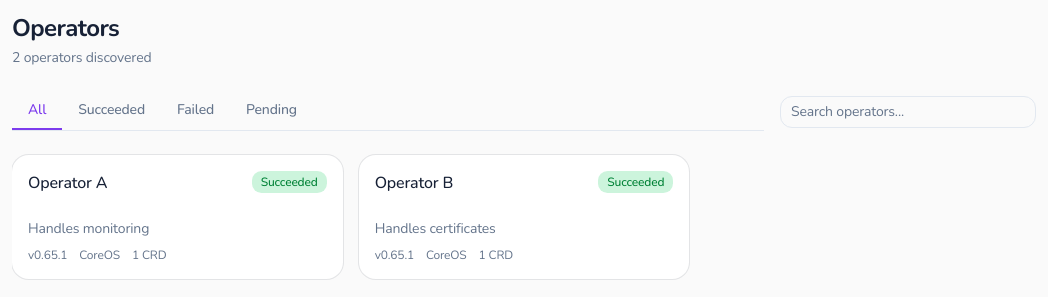
Test: OperatorsClient › filters operators by description when searching
Expected: the text "Operator A" is shown, [28,171,107,195]
Type "certificates" into the field with placeholder "Search operators...". click: (908, 112)
box: [780,96,1036,128]
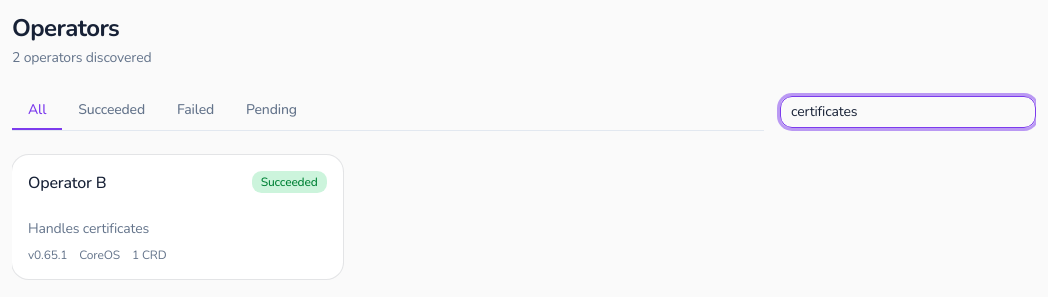
Expected: the text "Operator B" is shown, [28,171,106,195]
Expected: the link "Operator A" is gone
